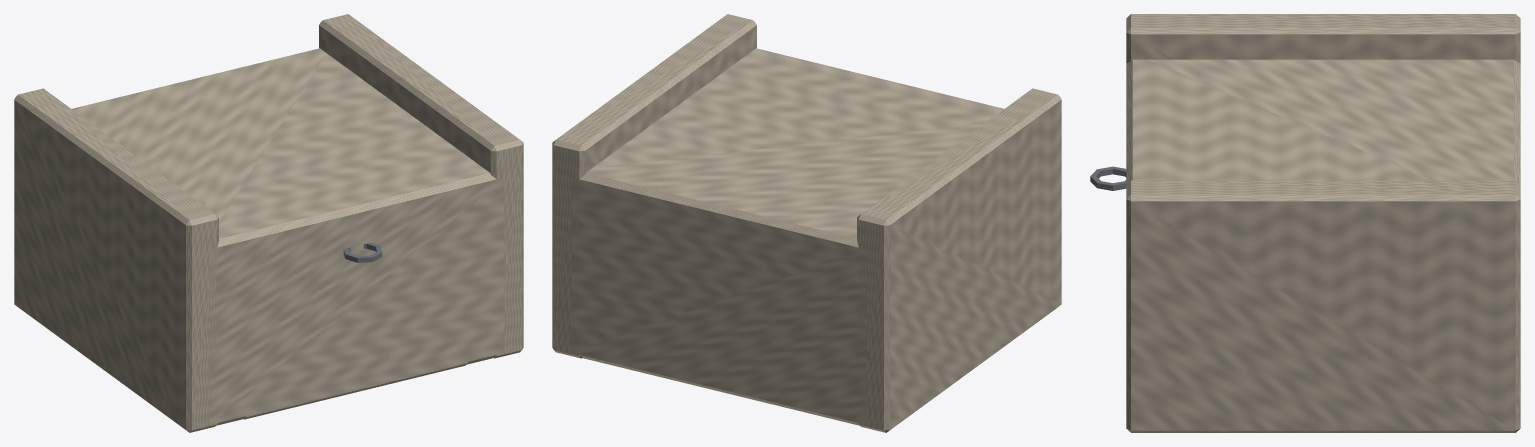
File: fantasy-mmo-city-and-townsfolk-quay-steps-be9bc373__32725.glb
3 renders of one model, left to right at view 1: azimuth 30°, elevation 25°; view 2: azimuth 150°, elevation 25°; view 3: azimuth 270°, elevation 25°, orthographic. The views are drawn at different scales.
Parts seen in each view (by area): view 1: quay-steps; view 2: quay-steps; view 3: quay-steps.
Part boxes in pixels (x1=…): quay-steps: x1=14, y1=14, x2=523, y2=432; quay-steps: x1=552, y1=14, x2=1061, y2=432; quay-steps: x1=1090, y1=14, x2=1520, y2=432.
Size of the model in its own units: 2.66 by 1.6 by 2.62.
Materials: 2 (1 with a texture image).
